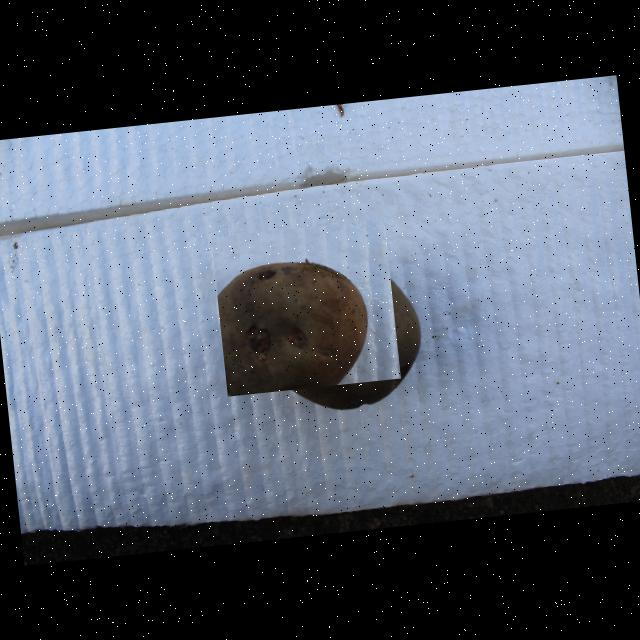Diseased-fungal potato: (210, 219, 400, 396)
